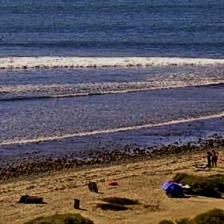surfer: (0, 39, 4, 42)
